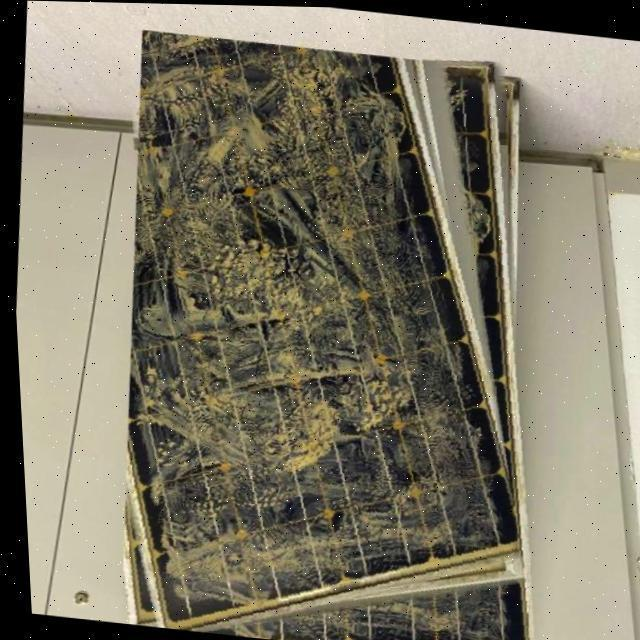Anomaly Solar Panel: (113, 39, 516, 638)
Surface Contaminant: (111, 30, 509, 640)
